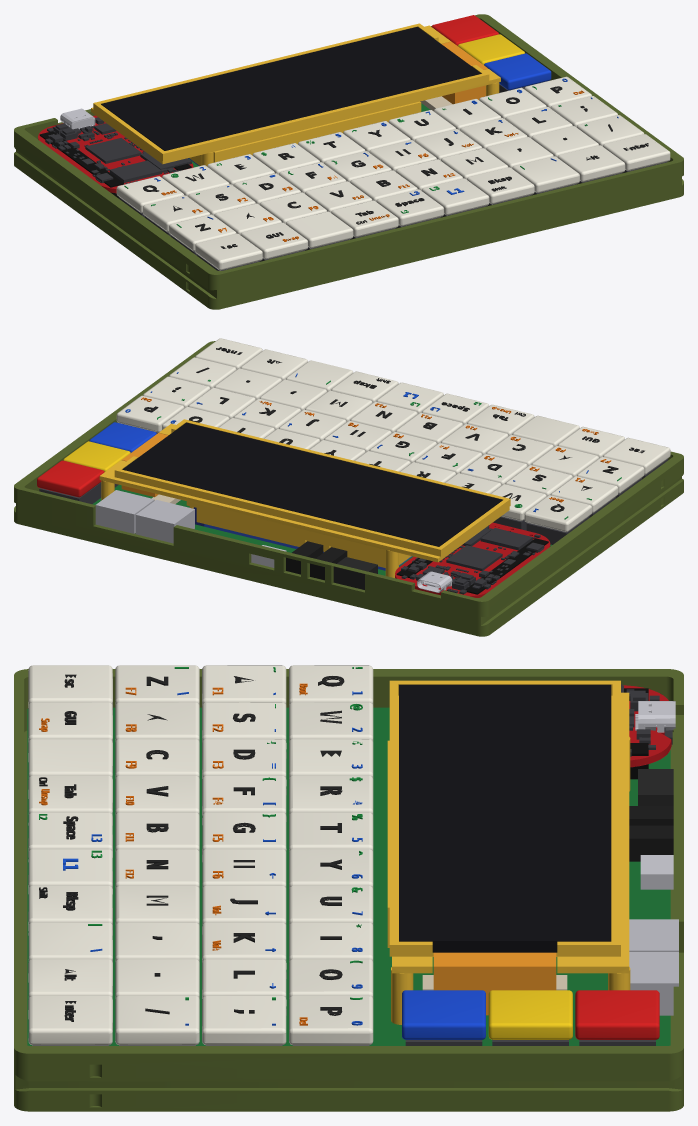
Rendered from open_olive.glb.
3 views of the same model, one above another, from view 1: azimuth 30°, elevation 25°; view 2: azimuth 150°, elevation 25°; view 3: azimuth 270°, elevation 25° (orthographic). The views are drawn at different scales.
Parts seen in each view (by area): view 1: Internals, Tray; view 2: Internals, Tray; view 3: Internals, Tray.
Part boxes in pixels (bbox=[...]): Internals: bbox=[38, 15, 670, 270]; Tray: bbox=[14, 14, 683, 309]; Internals: bbox=[37, 338, 670, 597]; Tray: bbox=[14, 341, 683, 636]; Internals: bbox=[27, 665, 678, 1045]; Tray: bbox=[14, 669, 683, 1111].
Size of the model in its own units: 0.1782 by 0.0211 by 0.1312.
